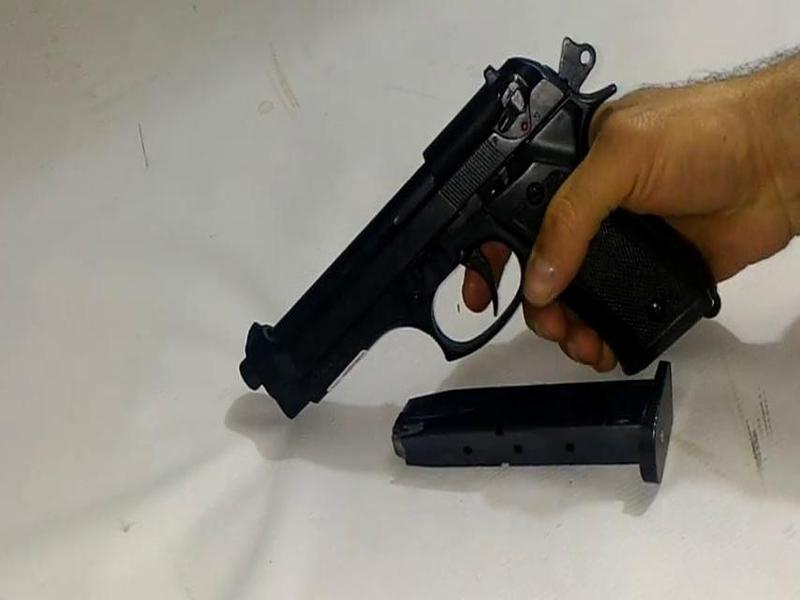Pistola: (213, 27, 758, 405)
